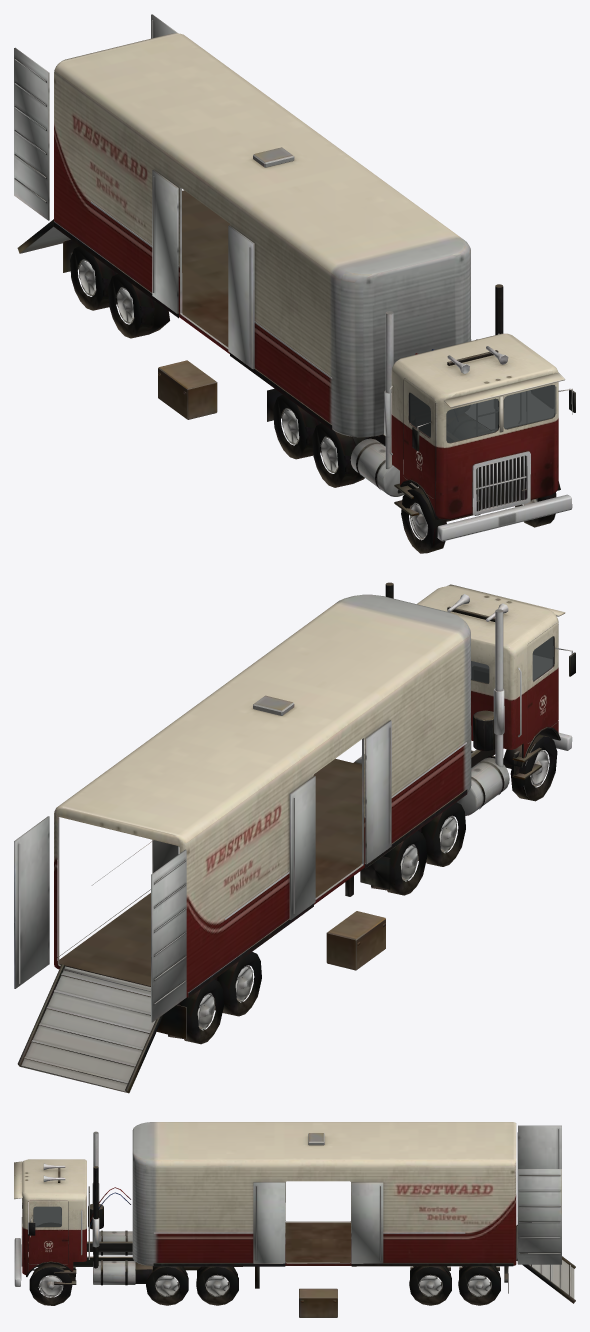
File: nuketown_truck-low.glb
The picture shows the model from 3 angles, top to bottom: view 1: azimuth 30°, elevation 25°; view 2: azimuth 150°, elevation 25°; view 3: azimuth 270°, elevation 25°; orthographic projection. The views are drawn at different scales.
Visible parts, largest first — view 1: truck_C_low, truck_A_low, truck_glass_low; view 2: truck_C_low, truck_A_low, truck_glass_low; view 3: truck_C_low, truck_A_low, truck_glass_low.
Part boxes in pixels (box(x1,y1,x2,y2)): truck_C_low: box(14, 14, 471, 437); truck_A_low: box(70, 246, 575, 553); truck_glass_low: box(409, 385, 556, 442); truck_C_low: box(14, 594, 471, 1093); truck_A_low: box(168, 582, 575, 1044); truck_glass_low: box(471, 636, 554, 683); truck_C_low: box(132, 1122, 575, 1317); truck_A_low: box(14, 1131, 500, 1305); truck_glass_low: box(33, 1206, 61, 1227).
Bounding box in the file's own units: 3.65 × 4.04 × 13.76.
3 materials, 2 textured.
